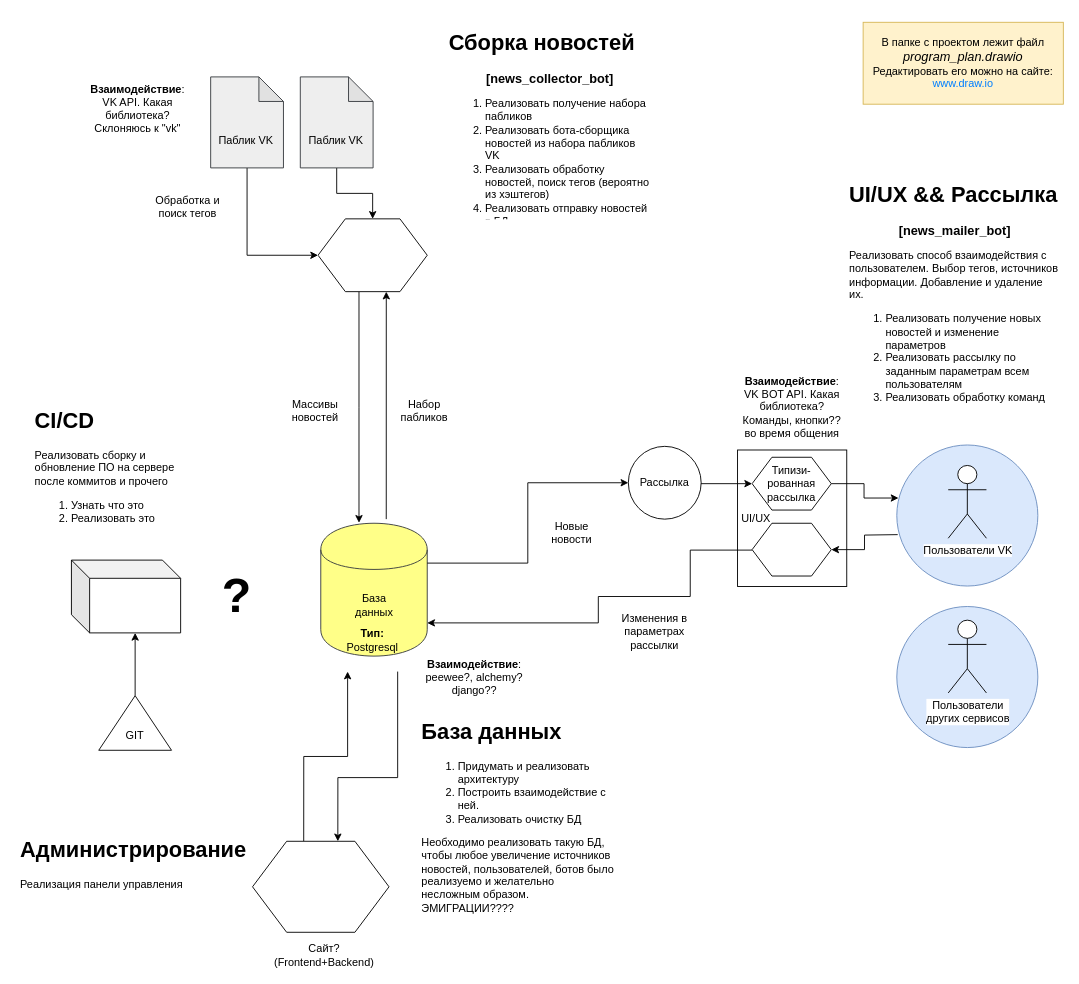
Image size: 1079x984. Some labels were removed from this diagram. Each missing label, with the box of its shape:
CI/CD: (71, 559, 181, 633)
Администрирование системы: (252, 840, 389, 932)
Обработка команд: (751, 522, 831, 576)
Сборщик новостей: (317, 218, 427, 292)
